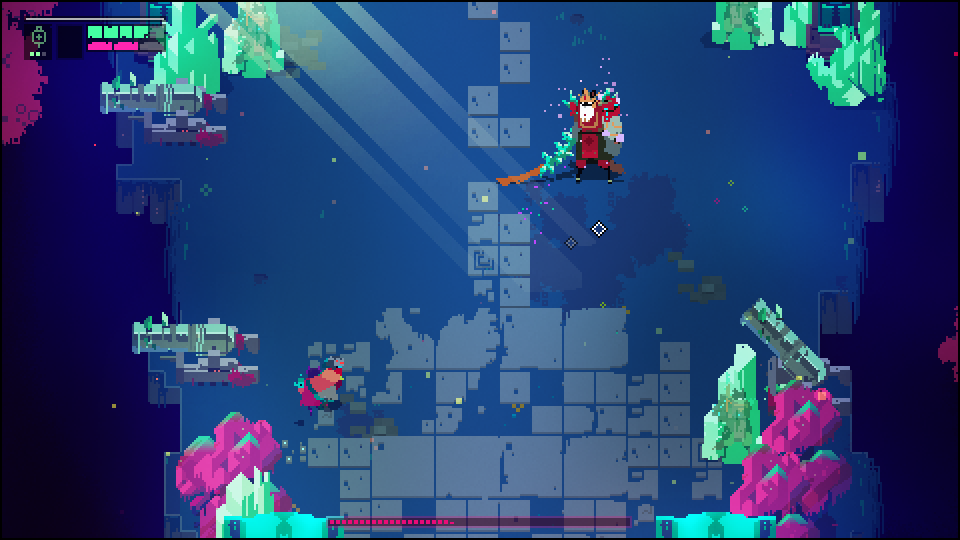hanged_man: (528, 84, 634, 187)
player: (304, 357, 349, 412)
